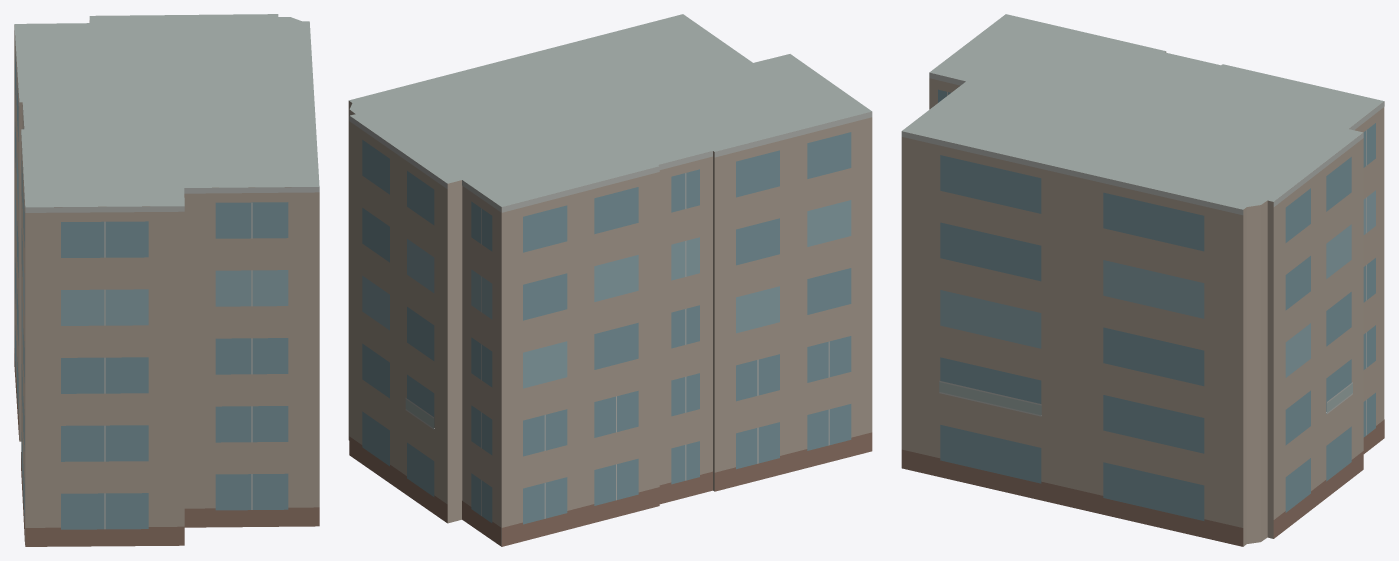
Rendered from survey-upis-32990376.glb.
3 renders of one model, left to right at view 1: azimuth 30°, elevation 25°; view 2: azimuth 150°, elevation 25°; view 3: azimuth 270°, elevation 25°, orthographic.
Parts seen in each view (by area): view 1: survey-upis-32990376.tmp; view 2: survey-upis-32990376.tmp; view 3: survey-upis-32990376.tmp.
Part boxes in pixels (x1,y1,x2,y2): survey-upis-32990376.tmp: [14, 14, 319, 546]; survey-upis-32990376.tmp: [348, 14, 872, 546]; survey-upis-32990376.tmp: [901, 14, 1384, 546].
Size of the model in its own units: 18.32 by 14.7 by 19.09.
